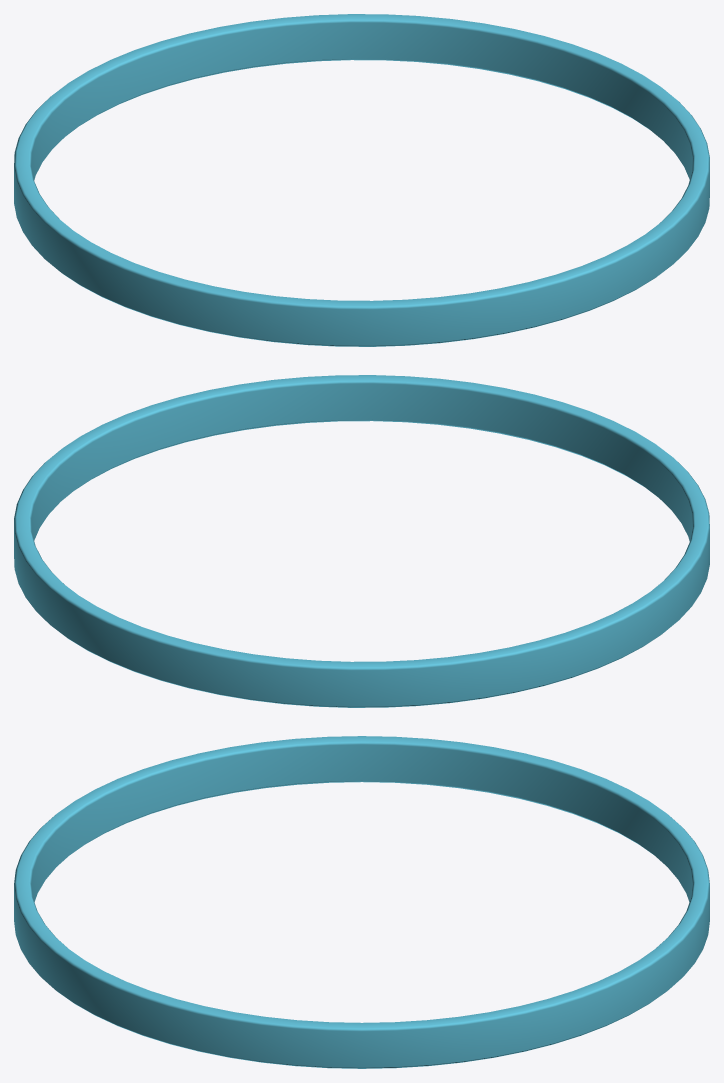
3 renders of one model, top to bottom at view 1: azimuth 30°, elevation 25°; view 2: azimuth 150°, elevation 25°; view 3: azimuth 270°, elevation 25°, orthographic.
Parts seen in each view (by area): view 1: seal_body; view 2: seal_body; view 3: seal_body.
Part boxes in pixels (x1=…): seal_body: x1=14, y1=14, x2=709, y2=346; seal_body: x1=14, y1=375, x2=709, y2=707; seal_body: x1=14, y1=736, x2=709, y2=1068.
Bounding box in the file's own units: 0.2 × 0.013 × 0.2.
